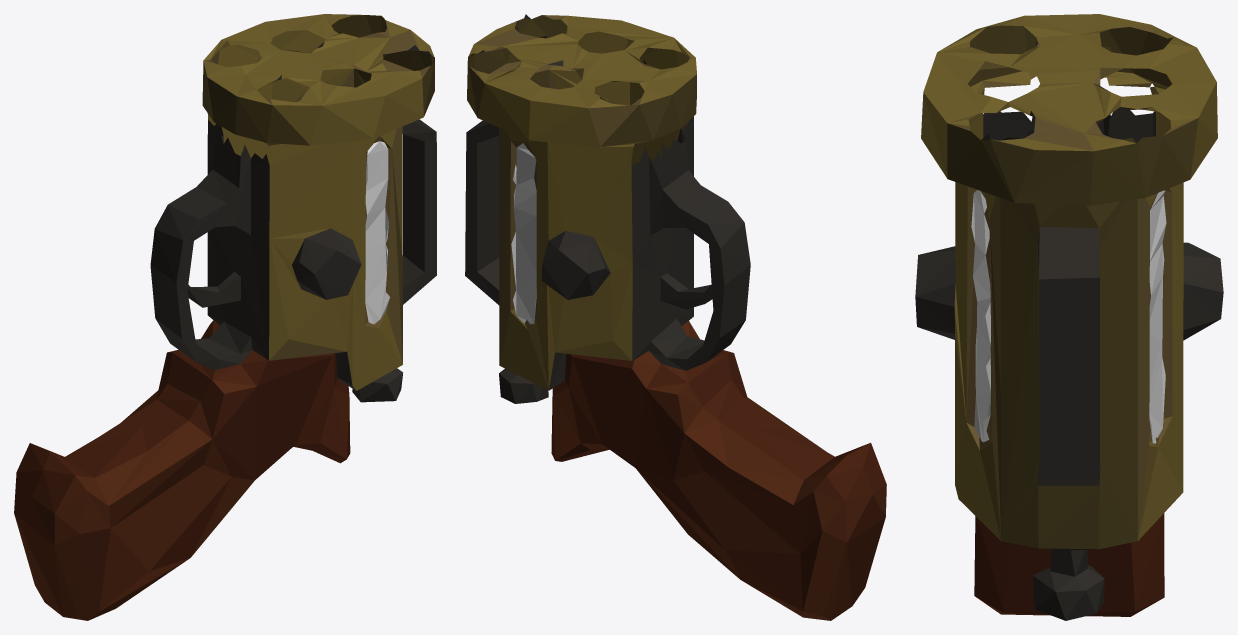
The model's file is aiwpn_gatling.glb.
The picture shows the model from 3 angles, left to right: view 1: azimuth 30°, elevation 25°; view 2: azimuth 150°, elevation 25°; view 3: azimuth 270°, elevation 25°; orthographic projection. The views are drawn at different scales.
Visible parts, largest first — view 1: ca_aiwpn_gatling; view 2: ca_aiwpn_gatling; view 3: ca_aiwpn_gatling.
Boxes of the visible parts, bbox=[...] form: ca_aiwpn_gatling: bbox=[14, 14, 436, 620]; ca_aiwpn_gatling: bbox=[465, 14, 886, 620]; ca_aiwpn_gatling: bbox=[915, 14, 1223, 620].
Bounding box in the file's own units: 0.6781 × 0.8112 × 0.3289.
